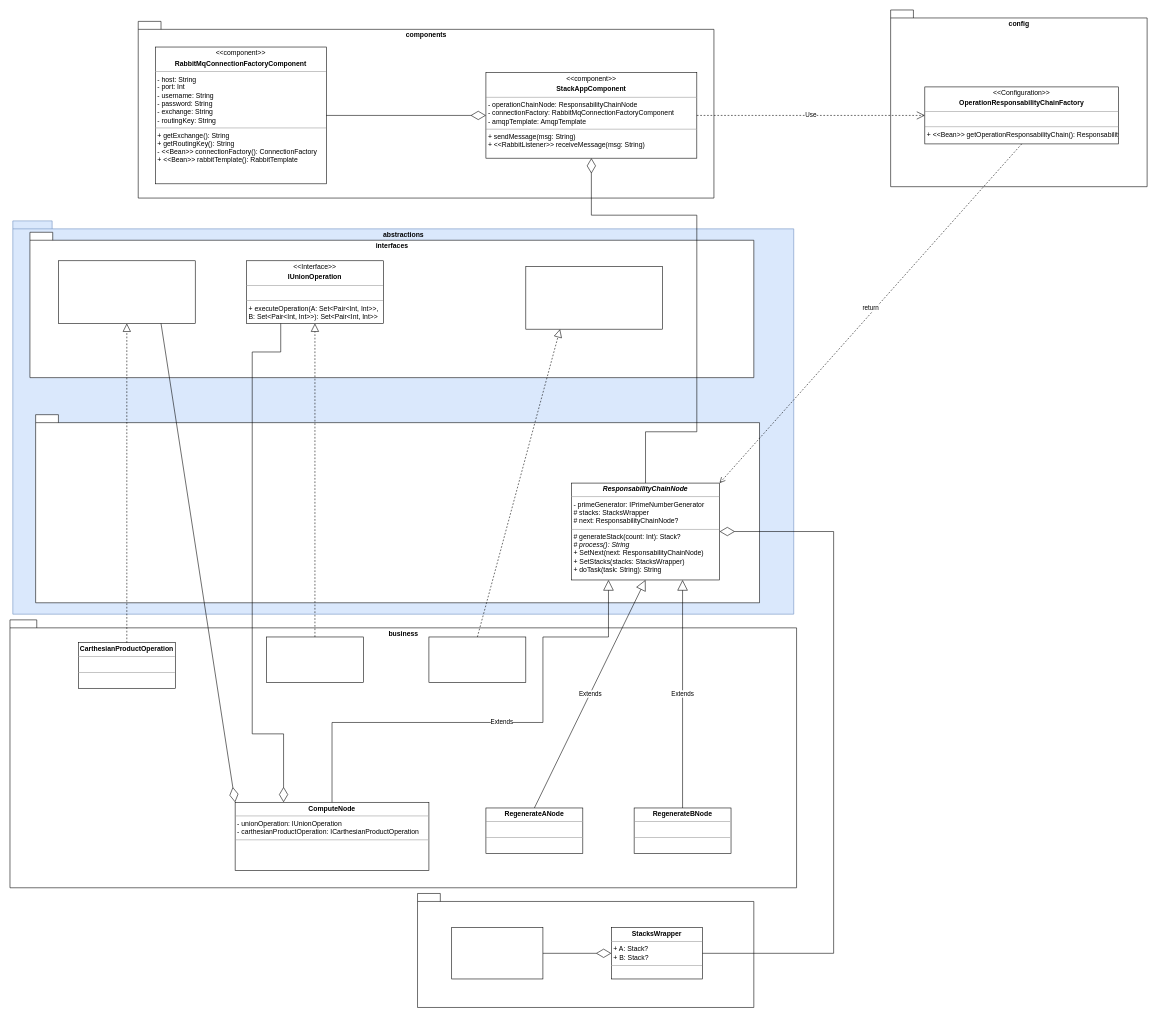
This 1165x1017 diagram has some shape labels left out. Each missing label, with the box of its shape:
<<Interface>> ICarthesianProductOperation + generatePrimeNumber(): Int: (58, 260, 195, 323)
<<Interface>> IPrimeNumberGenerator + generatePrimeNumber(): Int: (525, 266, 663, 329)
abstractClasses: (35, 414, 760, 603)
model: (417, 893, 754, 1007)
PrimeNumberGenerator: (428, 636, 526, 683)
Stack + data: MutableSet<Int>: (451, 927, 543, 979)
UnionOperation: (266, 636, 363, 683)
